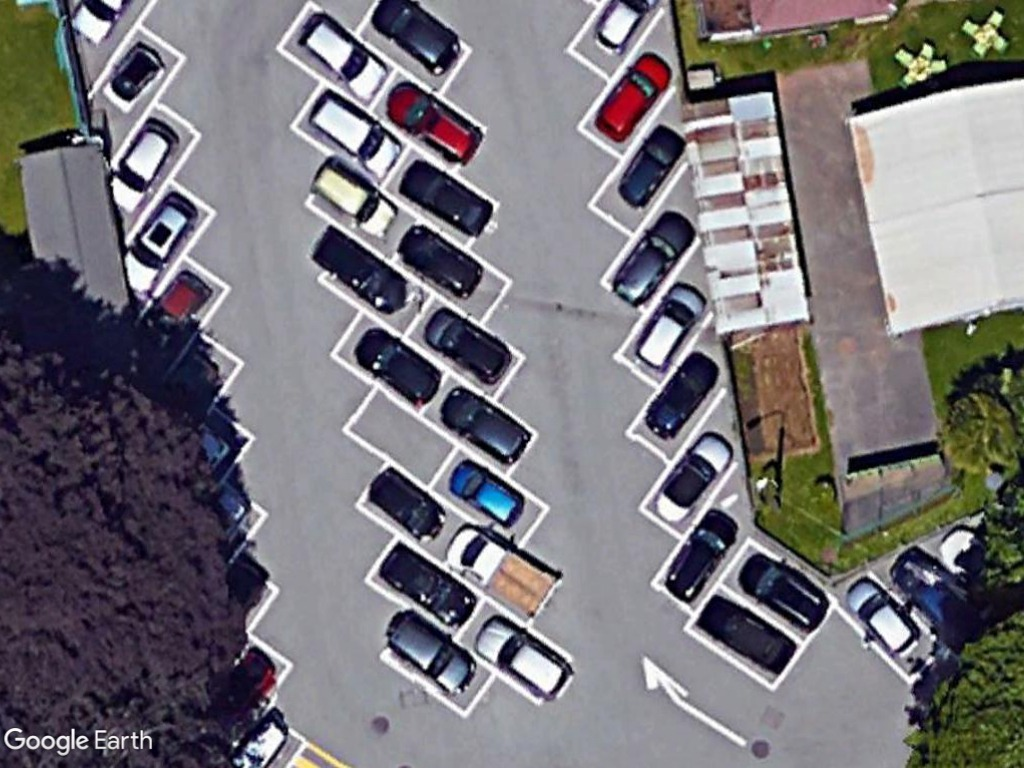car: (381, 71, 487, 163), (609, 204, 697, 313), (647, 427, 743, 526), (467, 617, 574, 703), (102, 107, 181, 220), (436, 383, 540, 460), (304, 158, 397, 243), (594, 50, 675, 147), (381, 607, 473, 692), (293, 18, 386, 102), (350, 328, 444, 411), (736, 552, 832, 633), (307, 91, 400, 174), (630, 281, 709, 377), (400, 157, 496, 235), (840, 574, 921, 660), (447, 460, 532, 539), (100, 38, 170, 120)
others: (436, 519, 564, 623)
